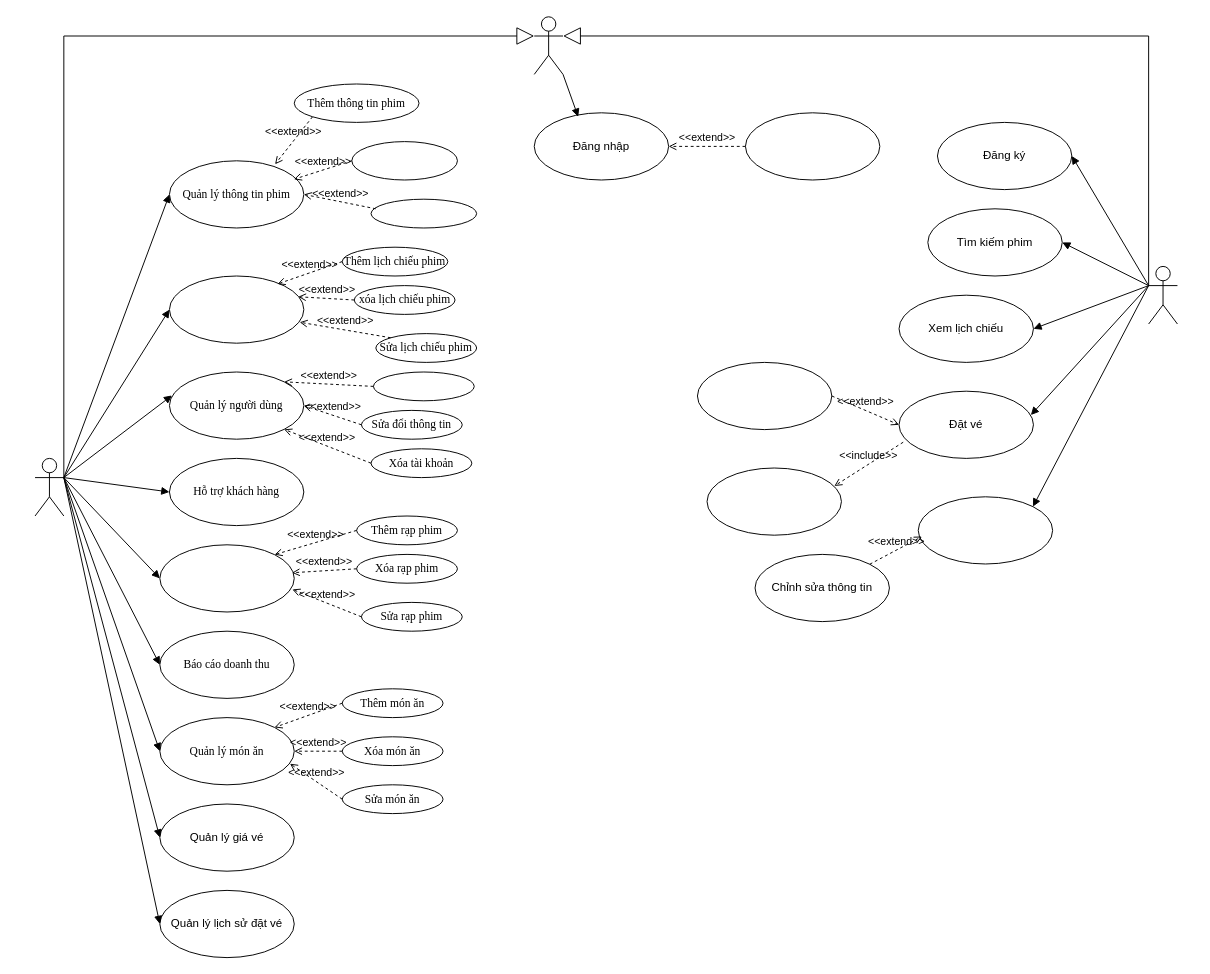
Image size: 1210x974. Some labels were removed from this diagram. The shapes that lost their labels are listed below. From the top down, each one's box as (x1, y1, x2, y2) in pixels, then its label:
(533, 16, 563, 74): Người dùng
(351, 141, 457, 180): Xóa thông tin phim
(744, 112, 880, 180): Đăng xuất
(370, 198, 477, 228): Sửa thông tin phim
(168, 275, 304, 343): Quản lý lịch chiếu
(1148, 265, 1177, 324): Khách hàng
(372, 371, 474, 401): Thêm tài khoản
(696, 361, 832, 430): Đặt món ăn
(34, 457, 64, 516): Quản trị viên
(706, 467, 841, 535): Xem lịch sử đặt
(917, 496, 1053, 564): Xem thông tin tài khoản
(159, 544, 294, 612): Quản lý chi nhánh rạp phim
